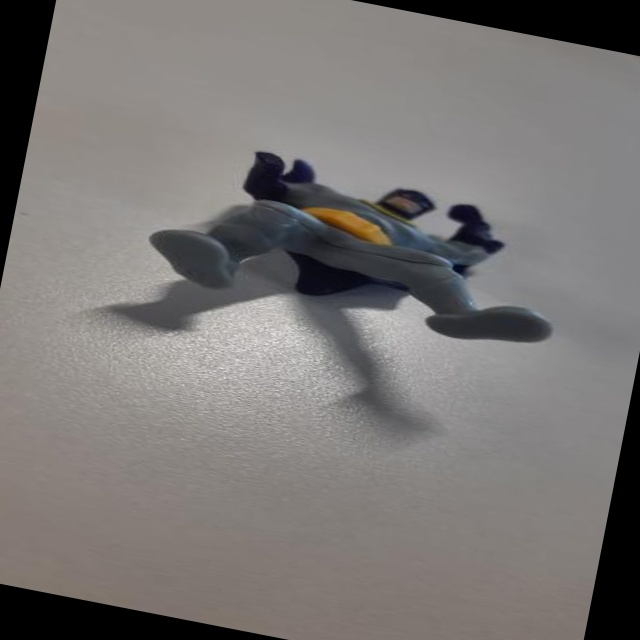Batman: (138, 127, 574, 356)
